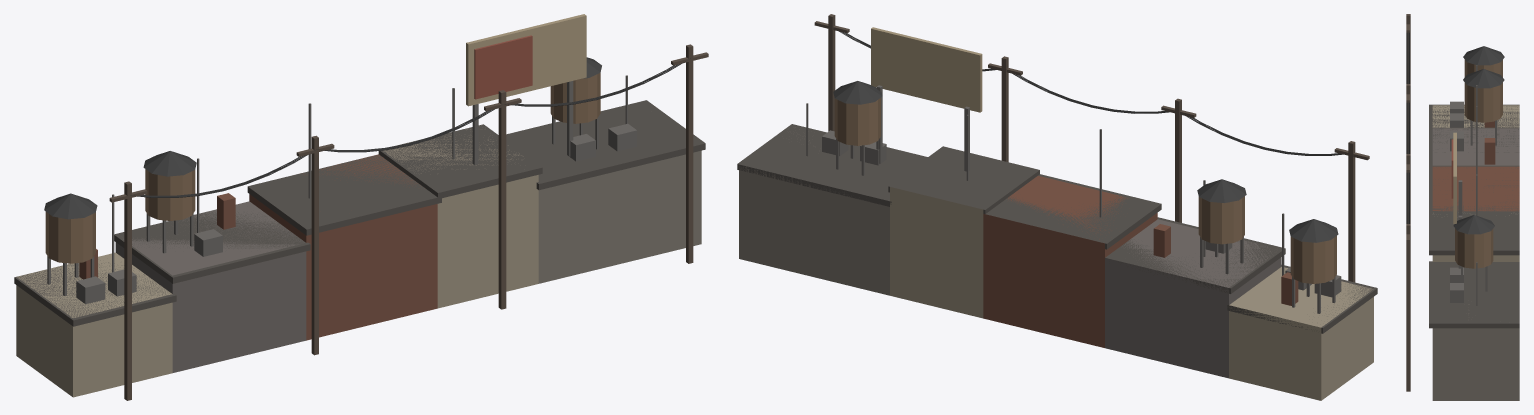
File: backdrop_roofline.glb
The picture shows the model from 3 angles, left to right: view 1: azimuth 30°, elevation 25°; view 2: azimuth 150°, elevation 25°; view 3: azimuth 270°, elevation 25°; orthographic projection. The views are drawn at different scales.
Visible parts, largest first — view 1: backdrop_roofline; view 2: backdrop_roofline; view 3: backdrop_roofline.
Part boxes in pixels (x1,y1,x2,y2): backdrop_roofline: (14, 14, 708, 400); backdrop_roofline: (737, 14, 1377, 400); backdrop_roofline: (1406, 14, 1519, 400).
Size of the model in its own units: 32.1 by 11.8 by 6.5.
